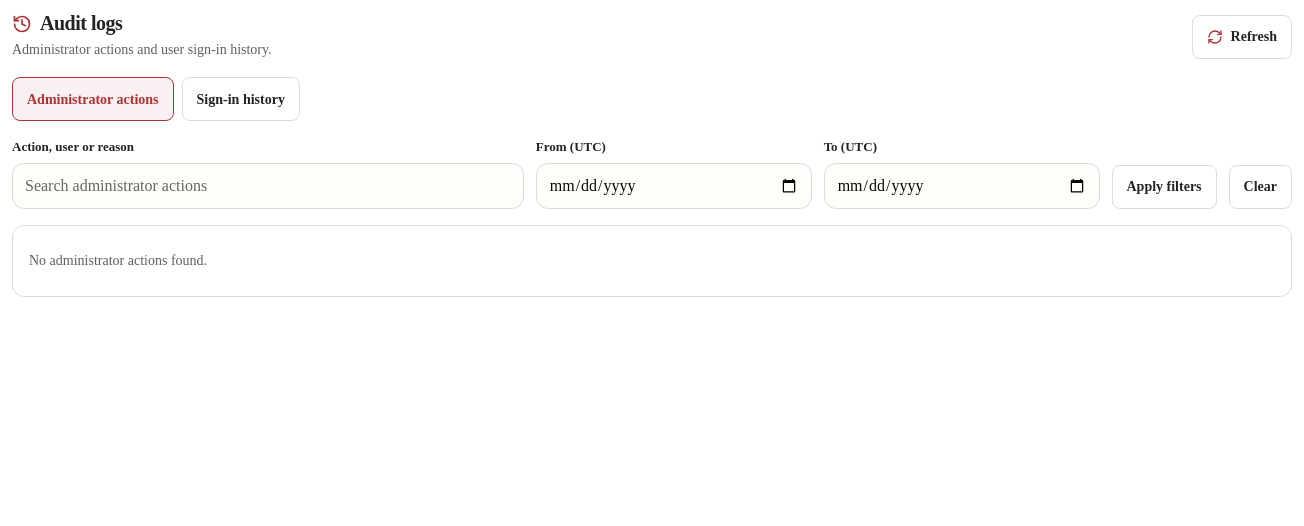
Test: admin sign-in history › shows errors with a retry and hides stale private records after a failed refresh
Expected: the text "No administrator actions found." is shown, left=29, top=253, right=207, bottom=268
Click the button "Sign-in history" at (241, 99), box left=182, top=77, right=300, bottom=121
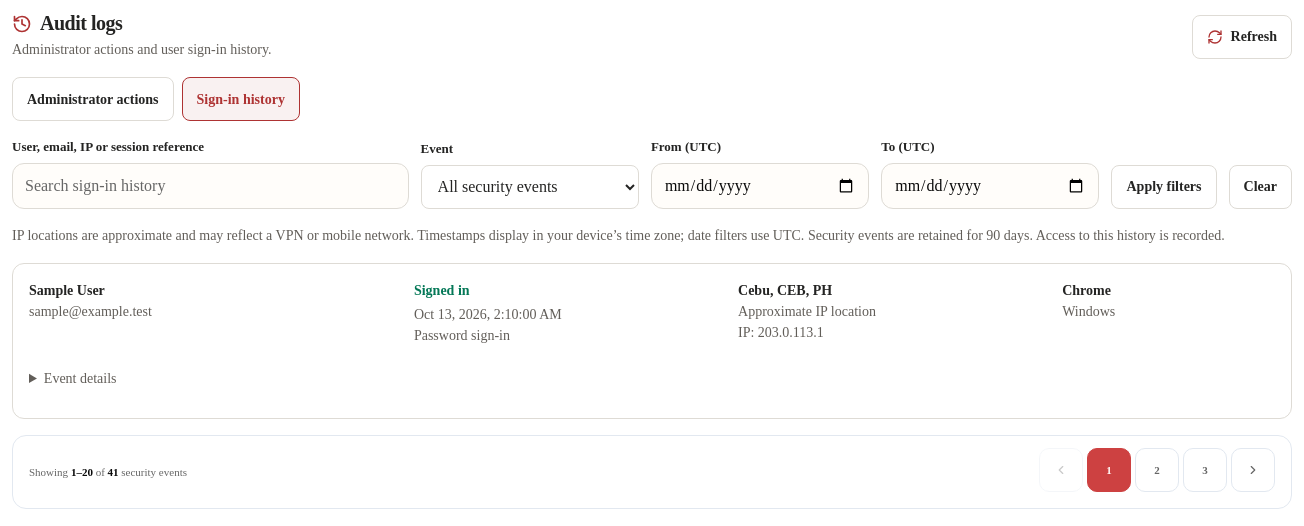
Expected: the text "Sample User" is shown, left=29, top=283, right=105, bottom=298
Click the button "Refresh" at (1242, 37), box left=1192, top=15, right=1292, bottom=59
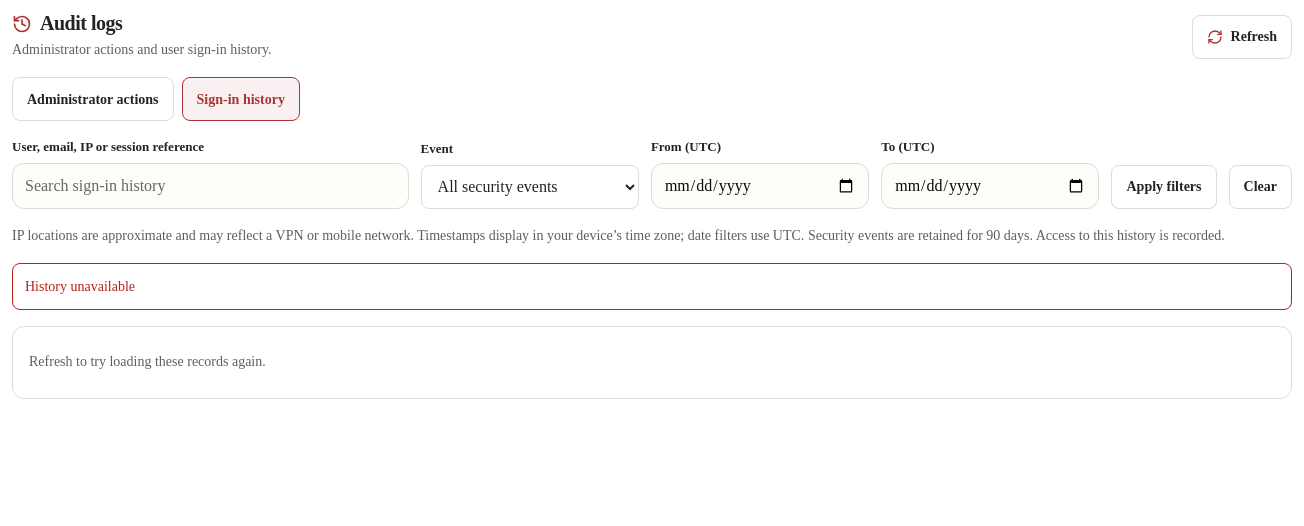
Expected: the message "History unavailable" is shown, left=12, top=263, right=1292, bottom=310
Expected: the text "Sample User" is gone
Expected: the text "Refresh to try loading these records again." is shown, left=29, top=354, right=266, bottom=369
